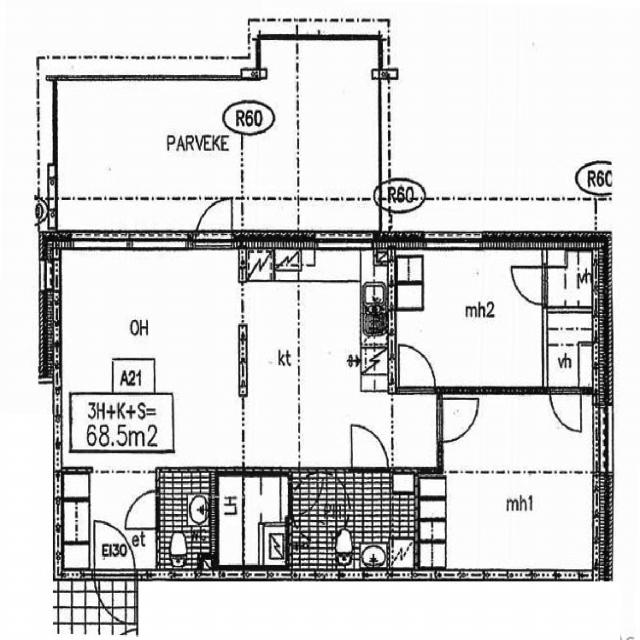door: (94, 570, 134, 628), (94, 522, 134, 580), (437, 398, 478, 442), (399, 343, 435, 393), (352, 423, 388, 473), (196, 197, 232, 245), (124, 491, 160, 529), (550, 386, 581, 430), (512, 267, 548, 303), (288, 477, 322, 514)
